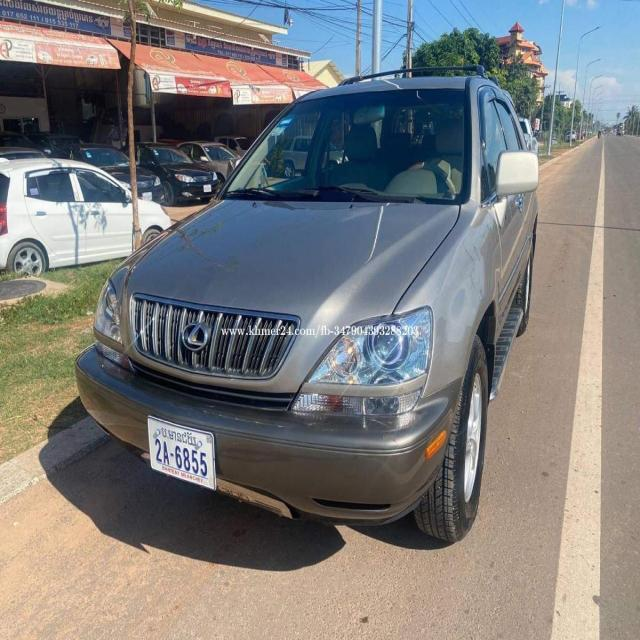Banteay_Meanchey: (161, 427, 196, 446)
